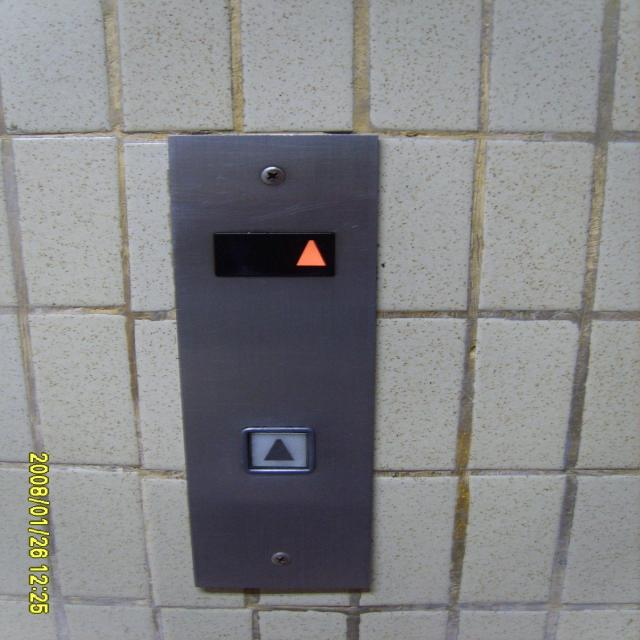led: (210, 228, 338, 280)
up: (236, 422, 317, 477)
